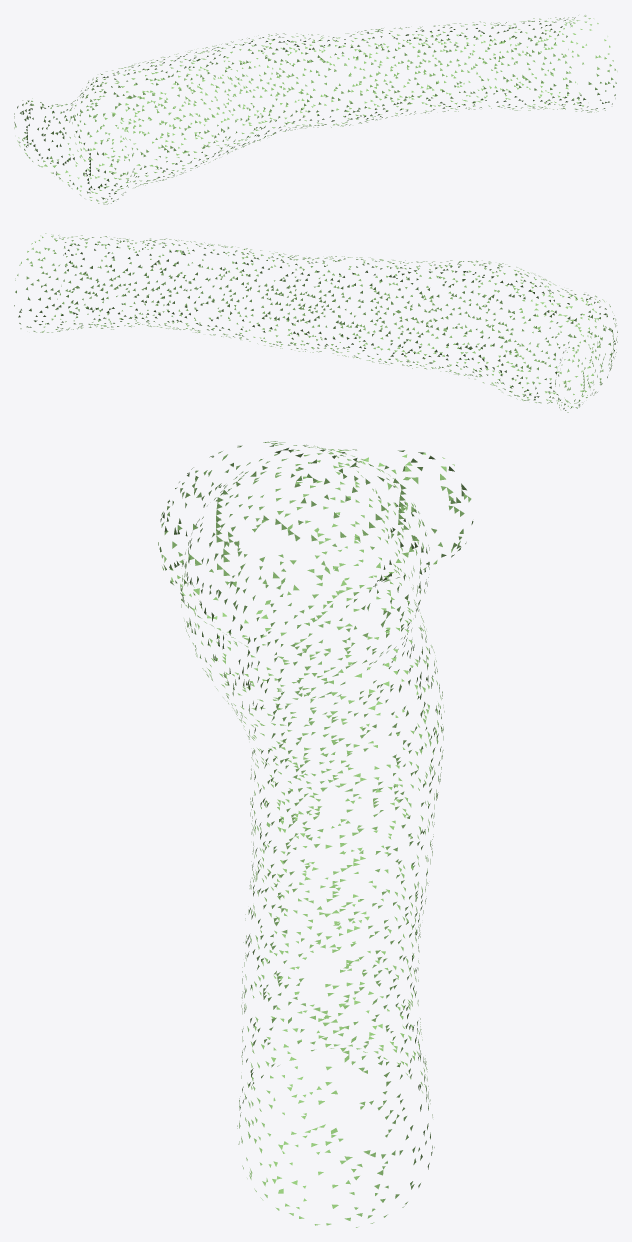
The model's file is morph_014.glb.
The picture shows the model from 3 angles, top to bottom: view 1: azimuth 30°, elevation 25°; view 2: azimuth 150°, elevation 25°; view 3: azimuth 270°, elevation 25°; orthographic projection. The views are drawn at different scales.
Bounding box in the file's own units: 132 × 35.86 × 32.74.
